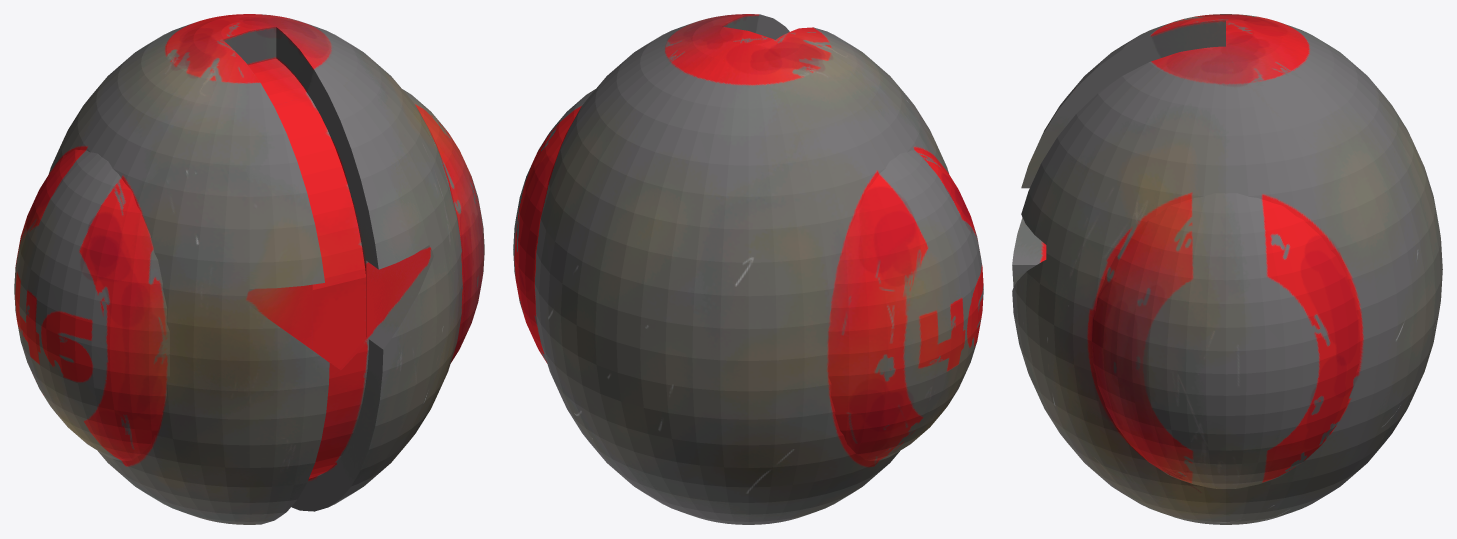
File: Goon.fbx
3 views of the same model, side by side, from view 1: azimuth 30°, elevation 25°; view 2: azimuth 150°, elevation 25°; view 3: azimuth 270°, elevation 25° (orthographic).
Visible parts, largest first — view 1: node_id5; view 2: node_id5; view 3: node_id5.
Boxes of the visible parts, left/top/right/bottom form: node_id5: left=14, top=14, right=484, bottom=524; node_id5: left=513, top=14, right=983, bottom=524; node_id5: left=1012, top=14, right=1442, bottom=524.
Size of the model in its own units: 0.3868 by 0.4109 by 0.3362.
Materials: 1 (1 with a texture image).
